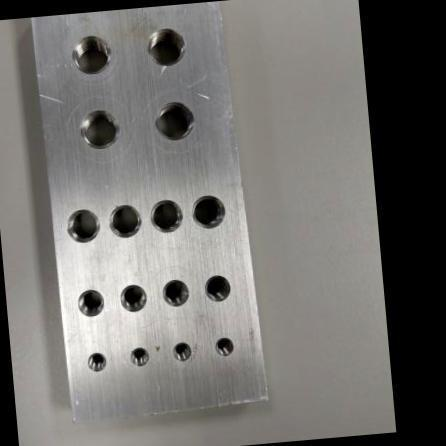hole: (68, 32, 114, 76), (76, 106, 122, 150), (152, 98, 196, 142), (145, 25, 187, 68), (188, 191, 228, 230), (64, 206, 102, 244), (106, 202, 144, 240), (146, 196, 184, 234), (117, 282, 148, 313), (74, 287, 106, 317), (160, 276, 190, 308), (202, 273, 232, 304), (85, 350, 108, 372), (128, 345, 150, 368), (212, 336, 236, 357), (171, 340, 193, 362)
